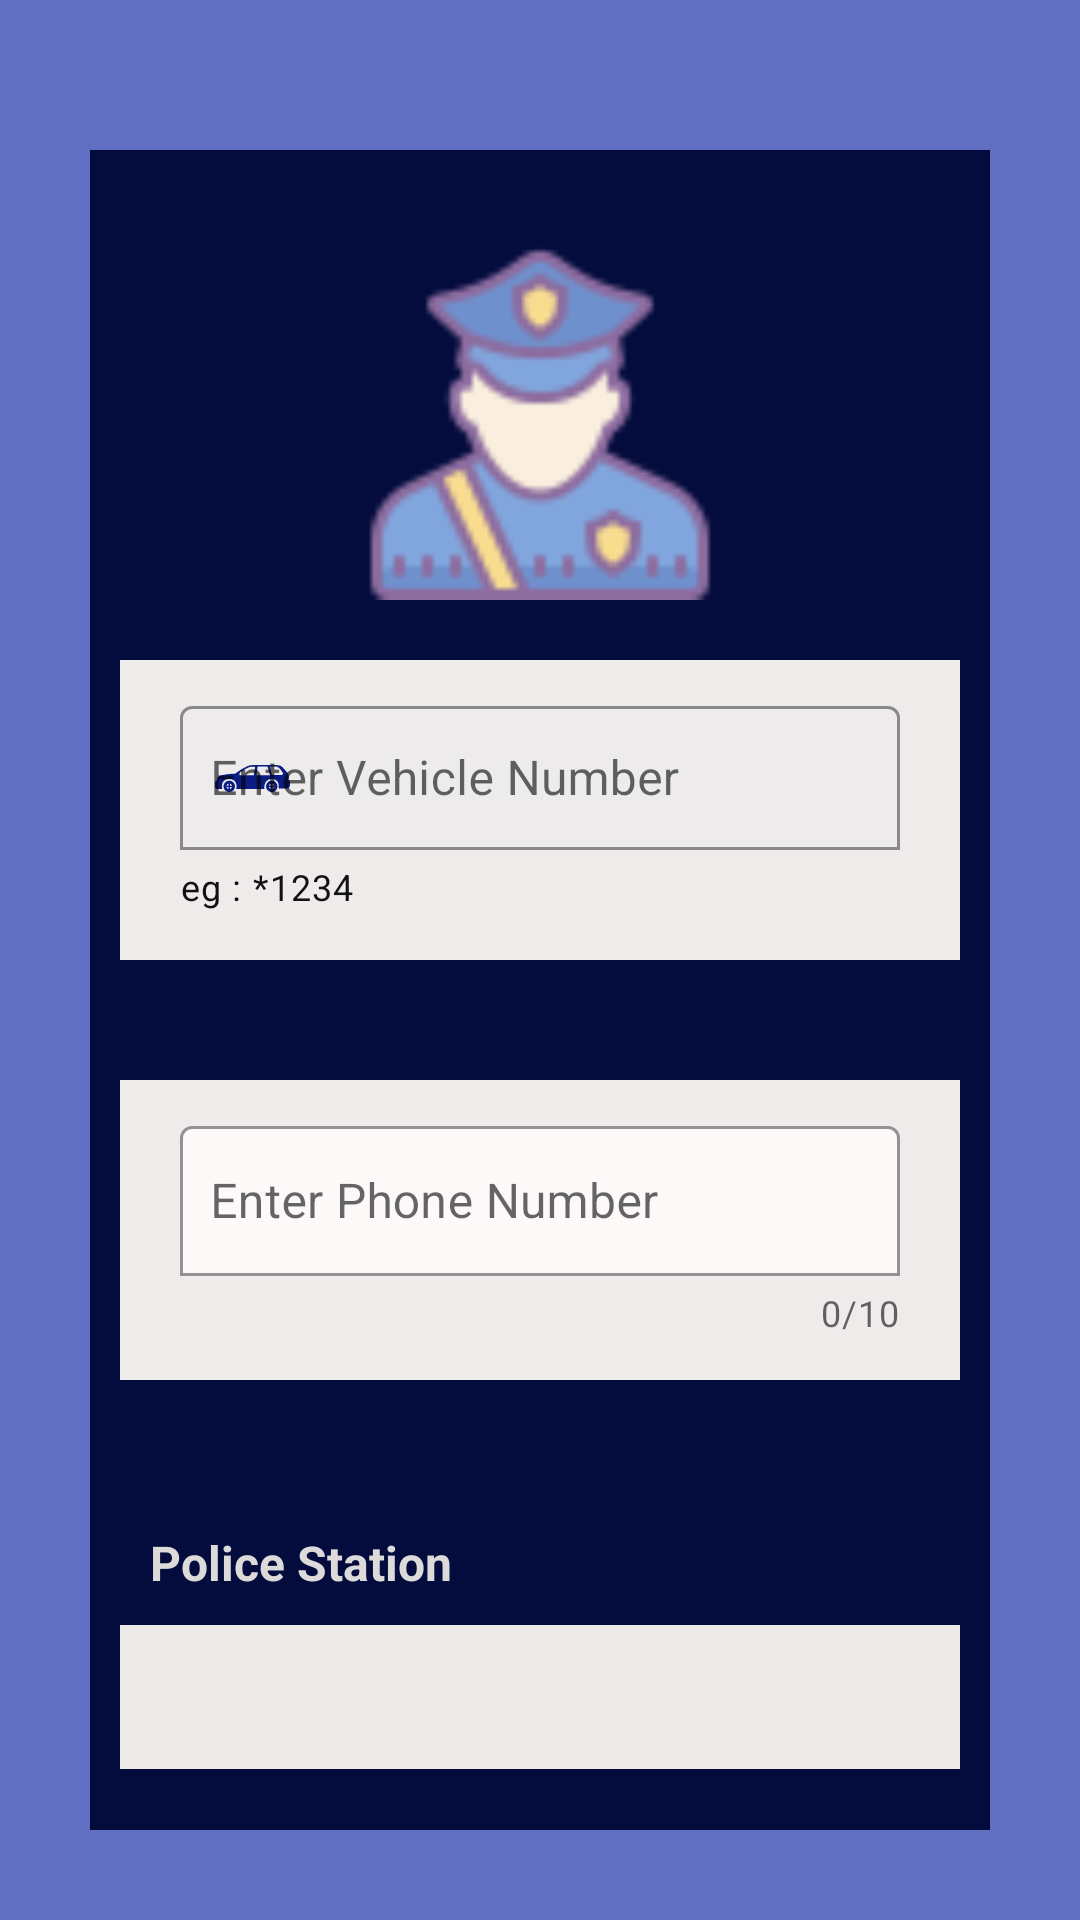

Named icons in this screenshot (1080x1920) and their bounding boxes, {"left": x1, "top": y1, "right": x2, "bottom": y2}:
policeiconupdate: {"left": 369, "top": 249, "right": 711, "bottom": 600}
